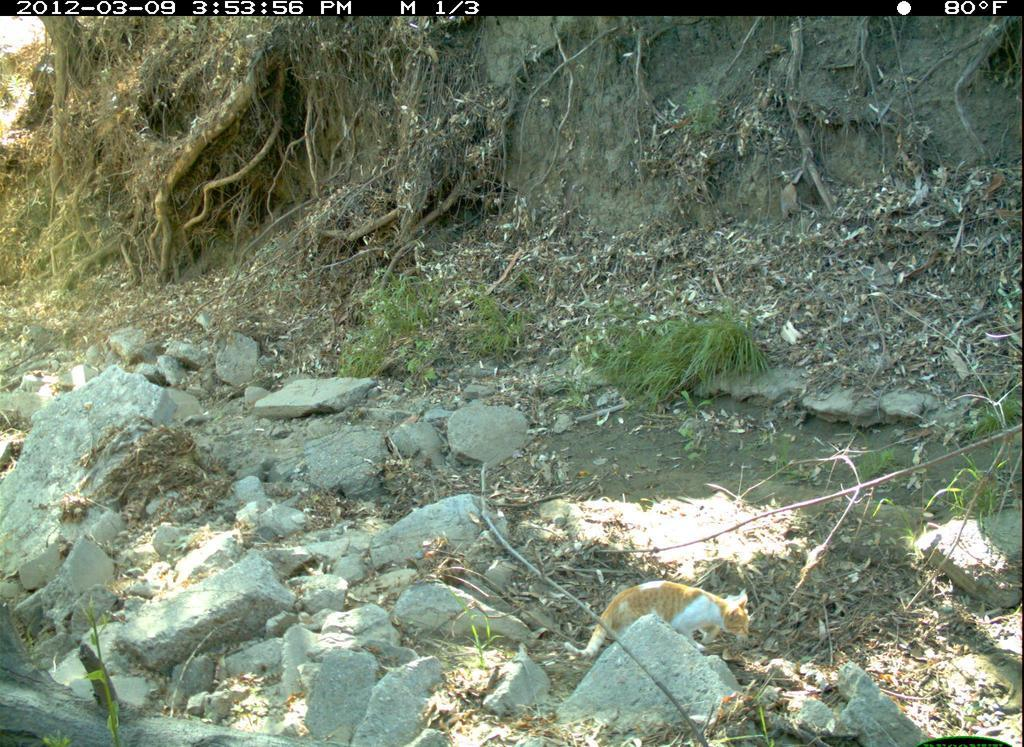cat: (569, 575, 771, 675)
